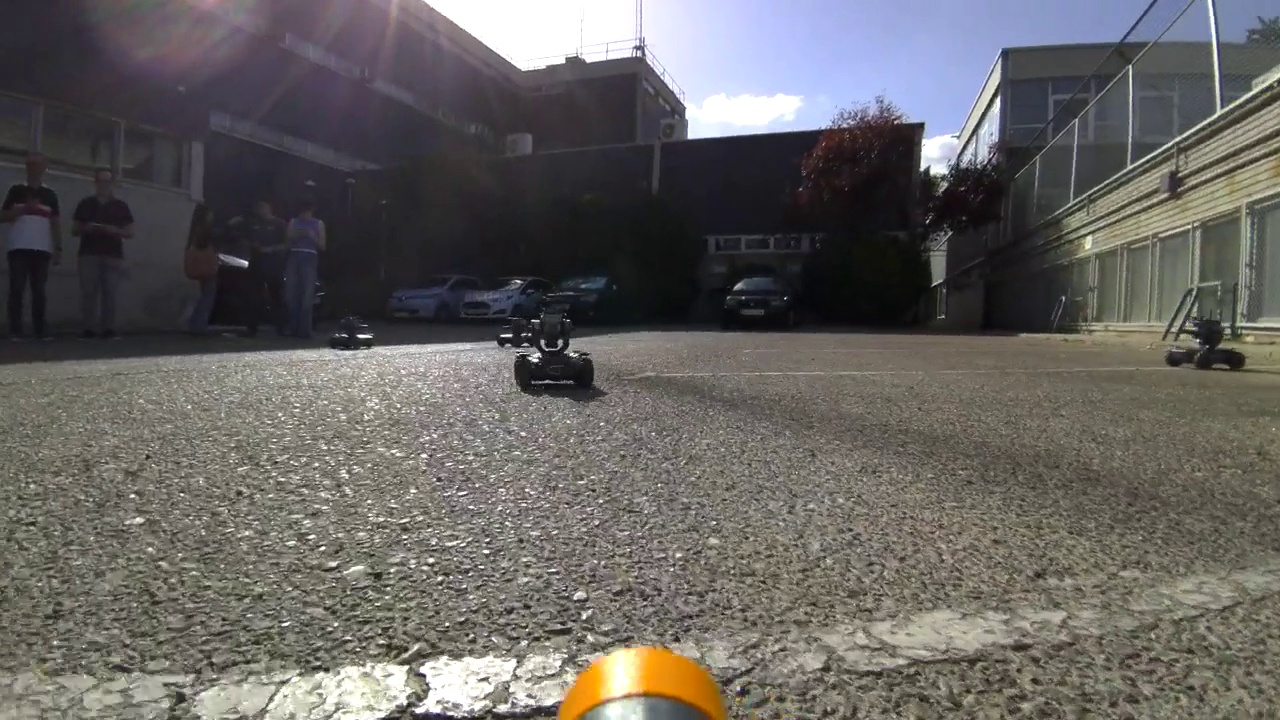robot: (516, 303, 598, 395), (1159, 306, 1244, 370), (493, 296, 537, 350), (324, 310, 375, 354)
